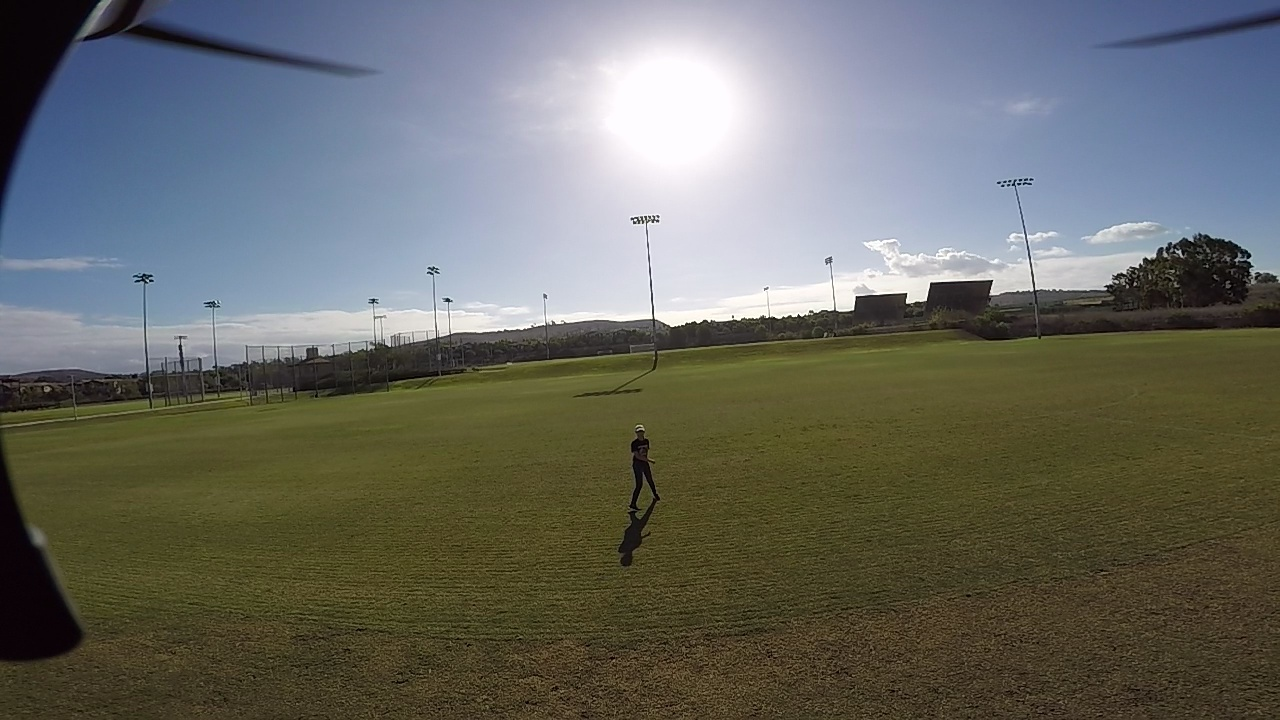person: (618, 417, 657, 521)
